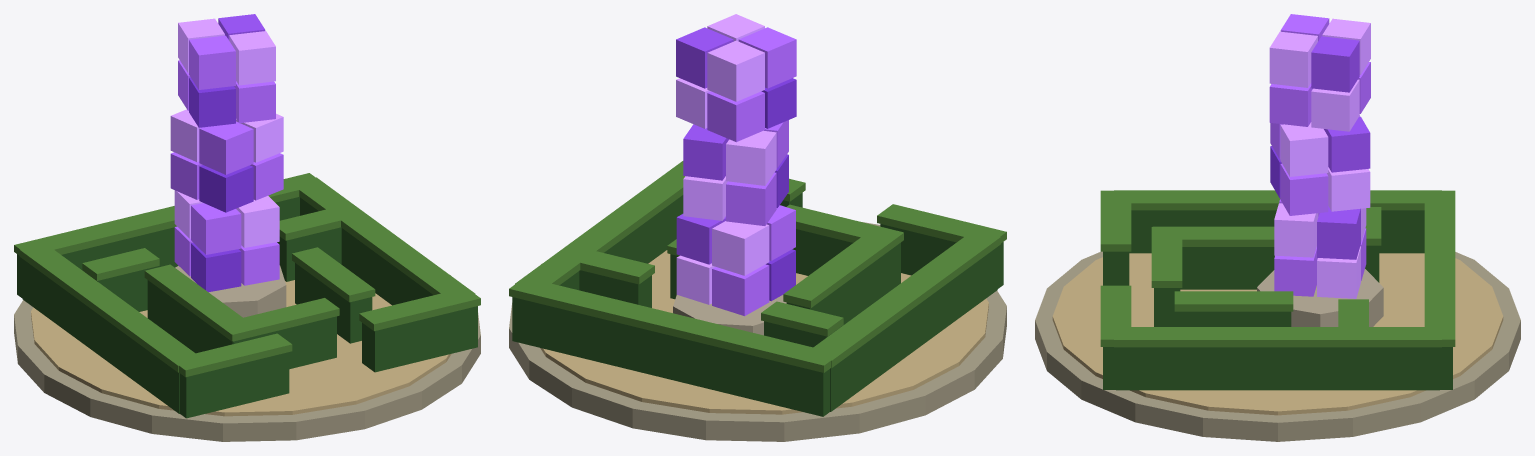
The model's file is landmark_reasoning.glb.
The picture shows the model from 3 angles, left to right: view 1: azimuth 30°, elevation 25°; view 2: azimuth 150°, elevation 25°; view 3: azimuth 270°, elevation 25°; orthographic projection. The views are drawn at different scales.
Visible parts, largest first — view 1: landmark_reasoning; view 2: landmark_reasoning; view 3: landmark_reasoning.
Boxes of the visible parts, <box> form: landmark_reasoning: <box>14,14,480,441</box>; landmark_reasoning: <box>509,14,1006,441</box>; landmark_reasoning: <box>1035,14,1520,441</box>.
Size of the model in its own units: 2.76 by 1.9 by 2.76.
